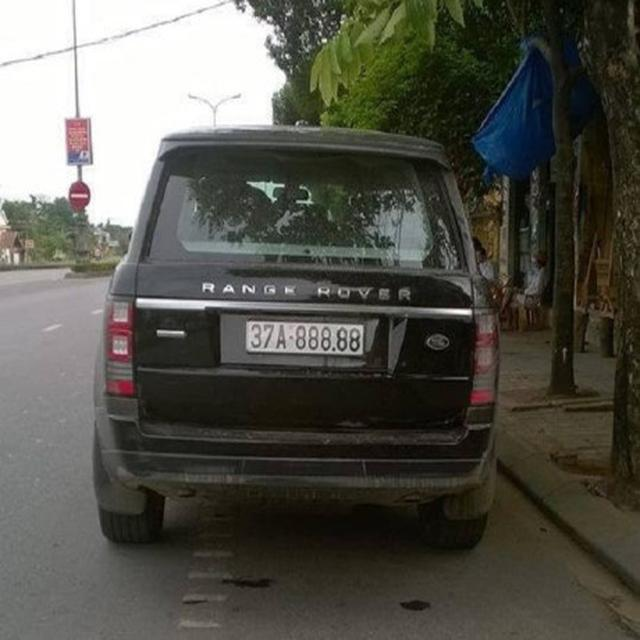car: (77, 125, 506, 559)
plate: (239, 315, 372, 362)
